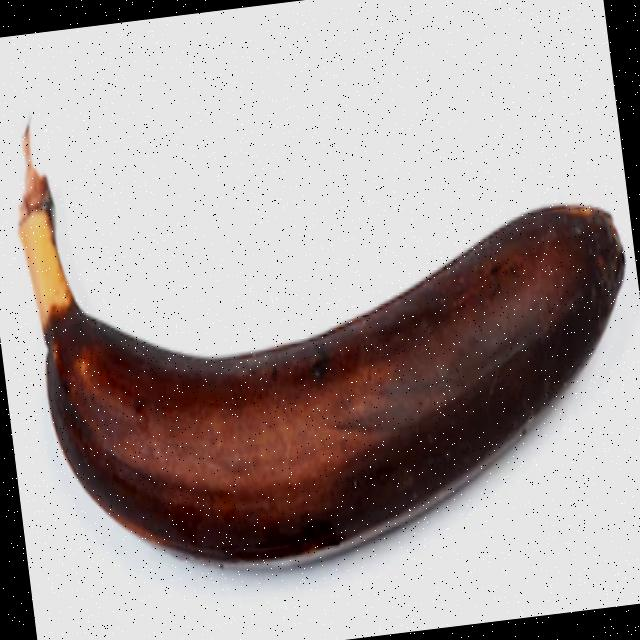Rotten: (0, 48, 640, 603)
